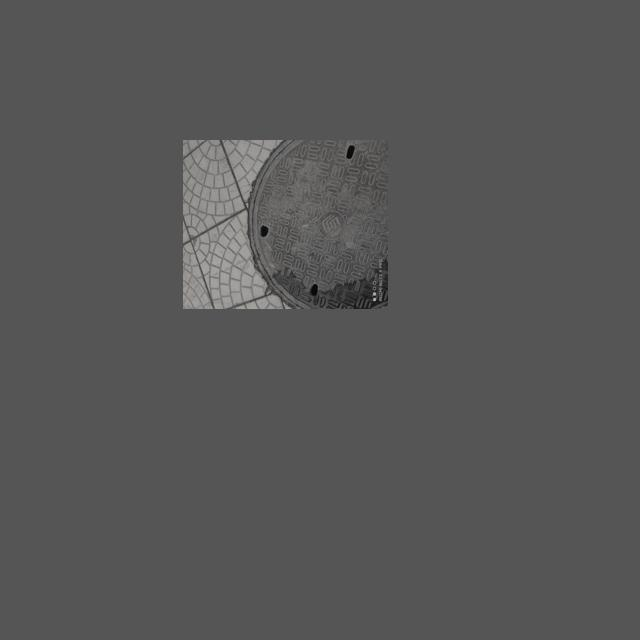good: (247, 140, 385, 309)
